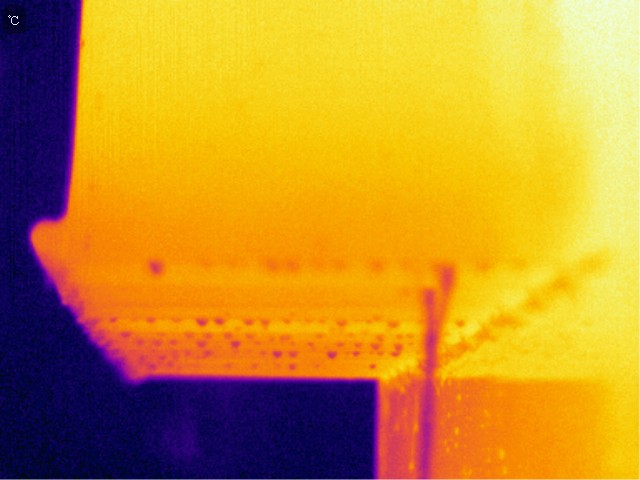Water: (418, 262, 457, 479), (148, 257, 170, 277), (390, 331, 406, 357), (222, 331, 243, 350), (270, 348, 301, 360), (200, 330, 217, 344), (239, 313, 254, 328), (193, 313, 209, 327), (369, 338, 383, 353), (385, 317, 404, 328), (258, 316, 273, 328), (325, 349, 341, 360), (214, 315, 228, 327), (144, 313, 160, 323), (152, 339, 168, 348), (117, 331, 134, 339), (193, 341, 205, 352), (202, 350, 211, 359)
